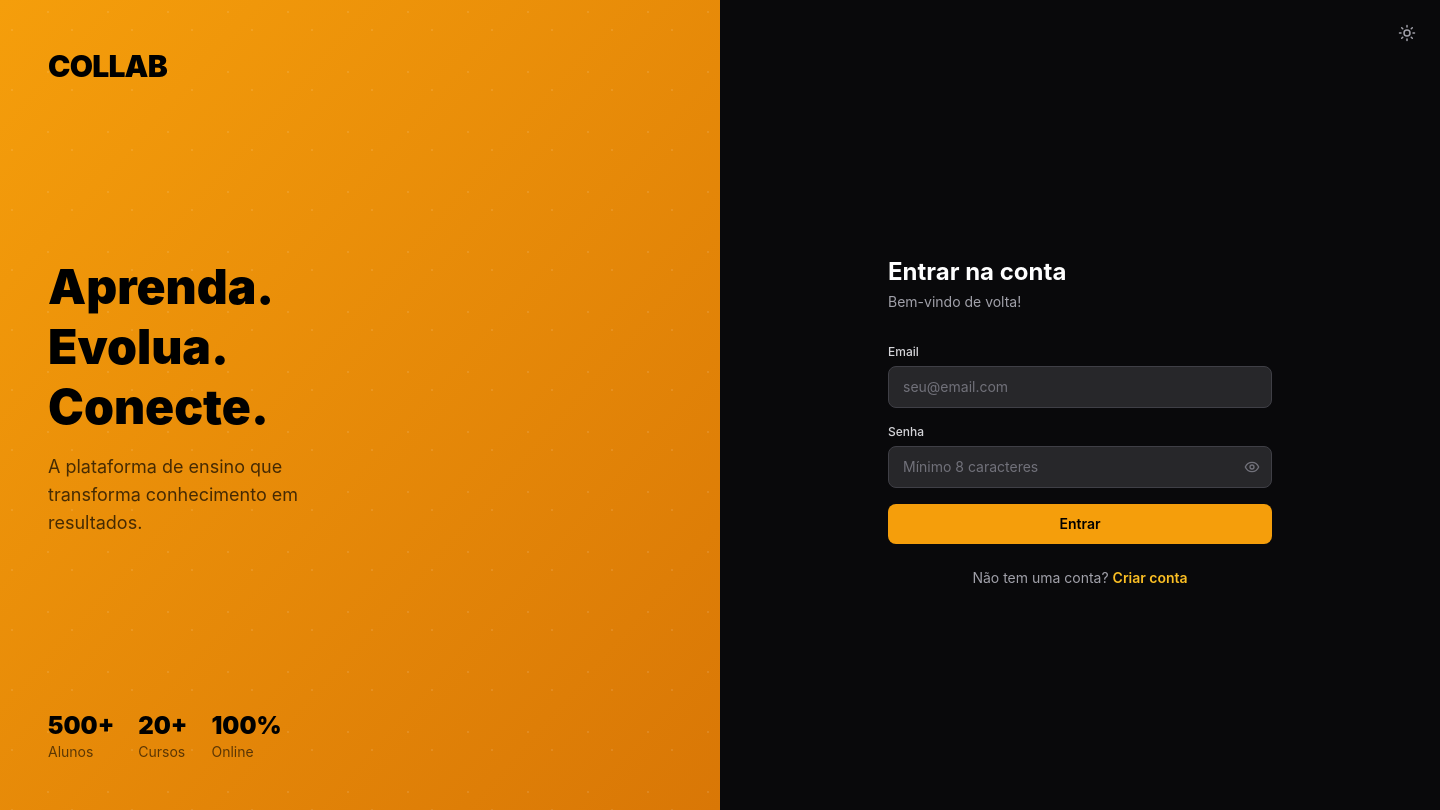
Test: LoginPage › shows error message on login failure
The width and height of the screenshot is (1440, 810).
Type "a@b.com" into the field with placeholder "seu@email.com" at (1080, 387), box left=888, top=366, right=1272, bottom=408
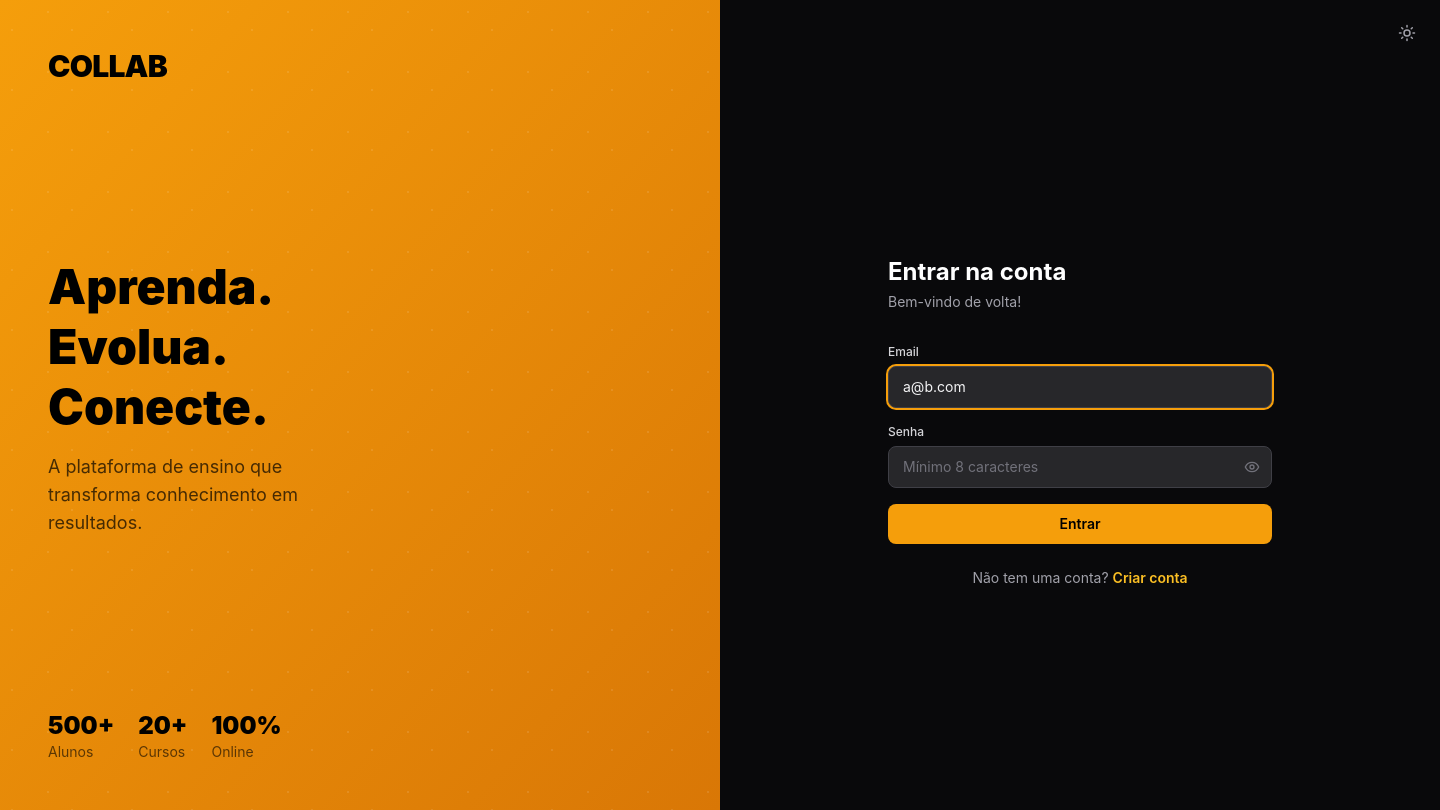
Type "wrongpass" into the password field with placeholder "Mínimo 8 caracteres" at (1080, 467), box left=888, top=446, right=1272, bottom=488
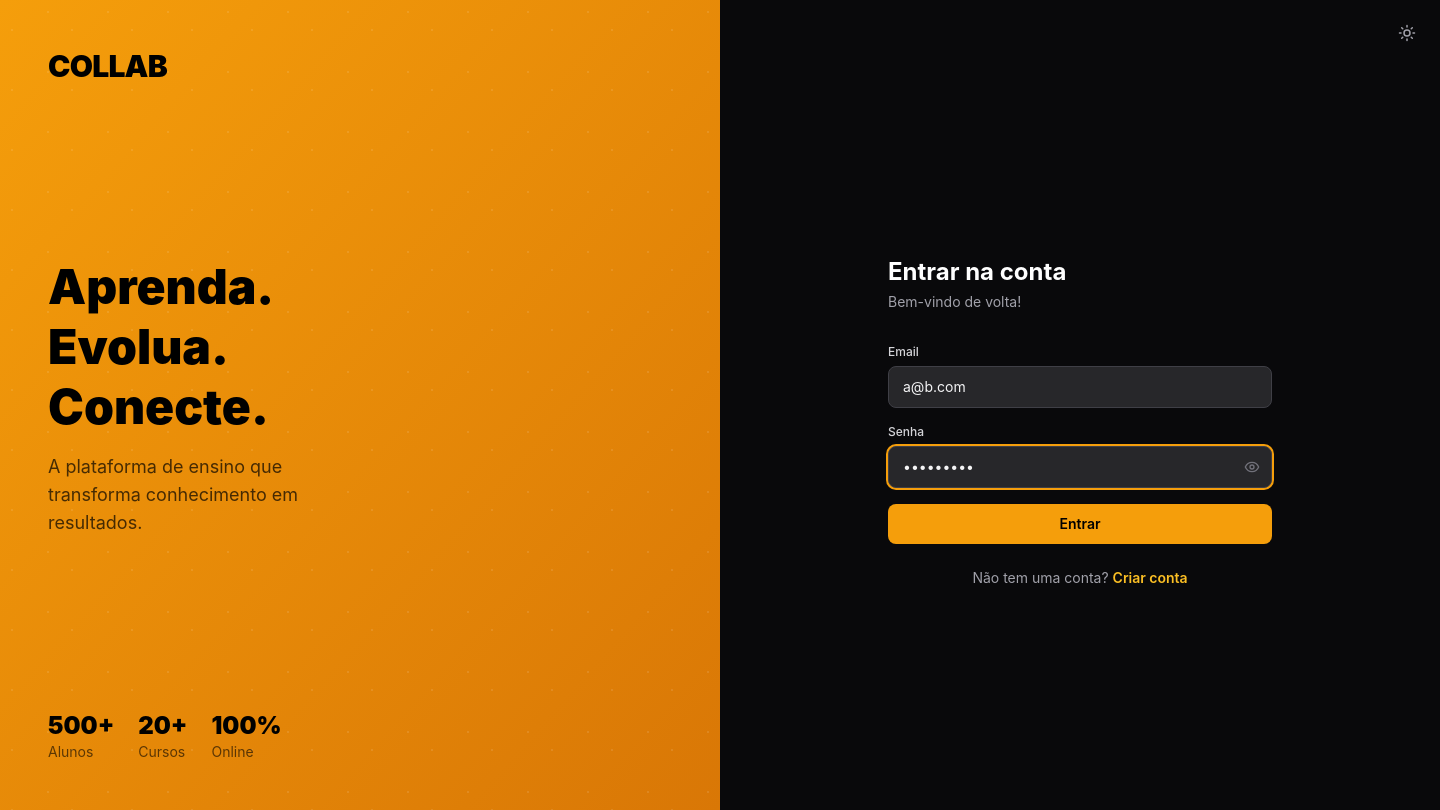
Click the button "Entrar" at (1080, 524), box left=888, top=504, right=1272, bottom=544
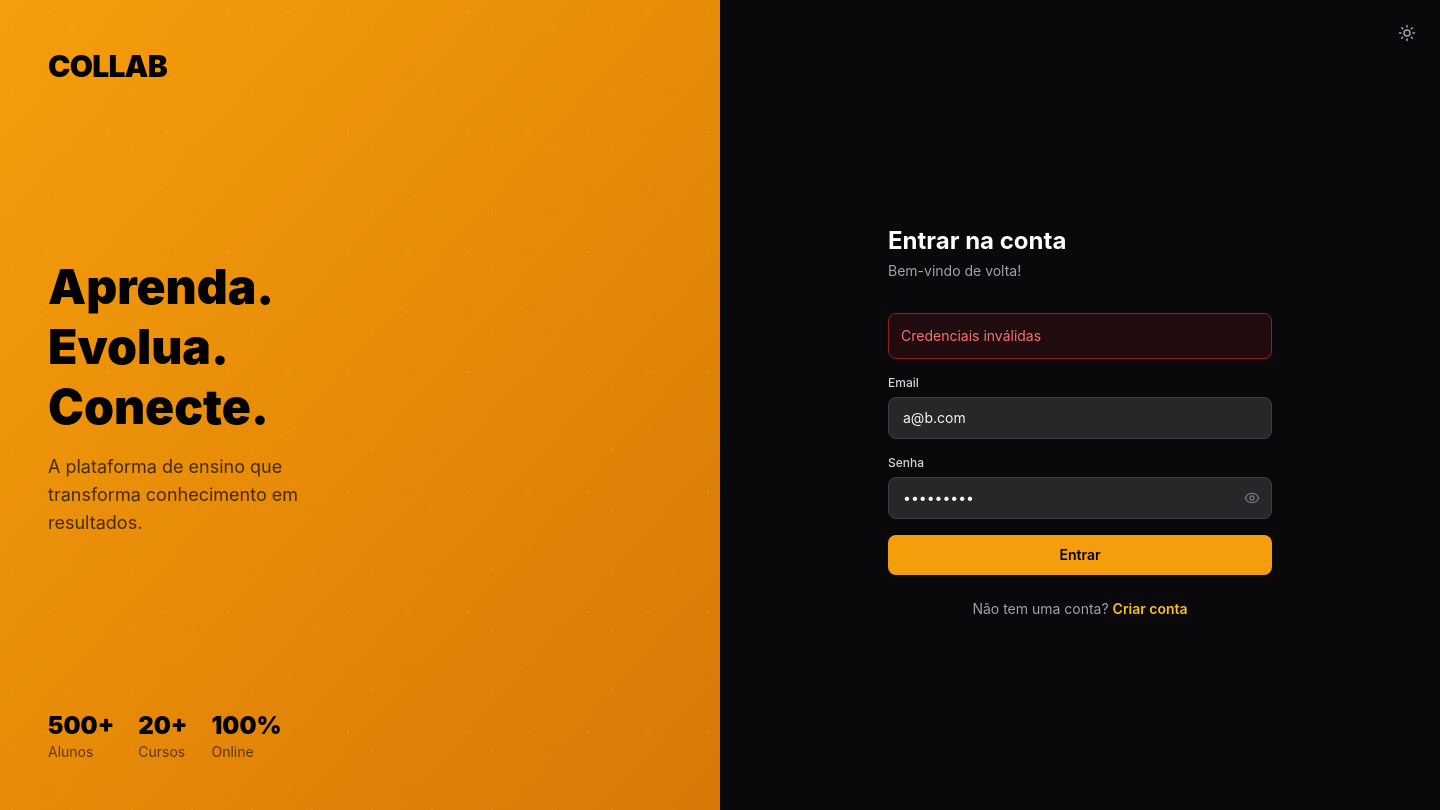
Result: the text "Credenciais inválidas" is shown at left=888, top=313, right=1272, bottom=359
Result: the text with test id "error-msg" reads "Credenciais inválidas" at left=901, top=327, right=1041, bottom=344
